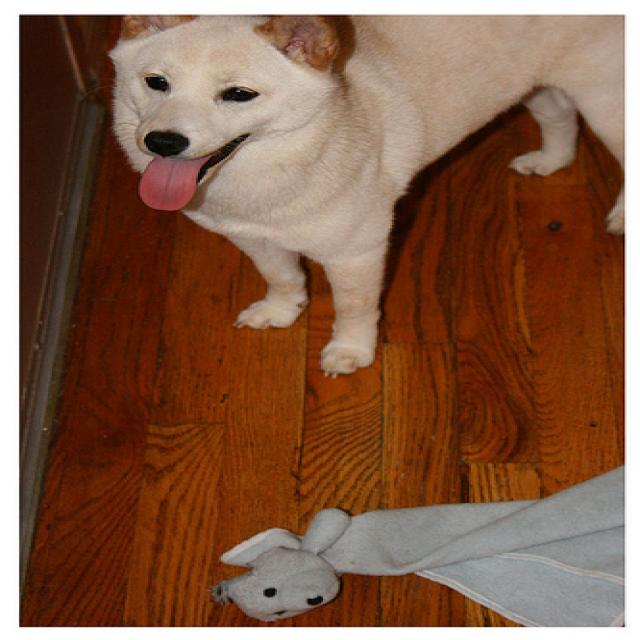dog: (106, 14, 336, 209)
